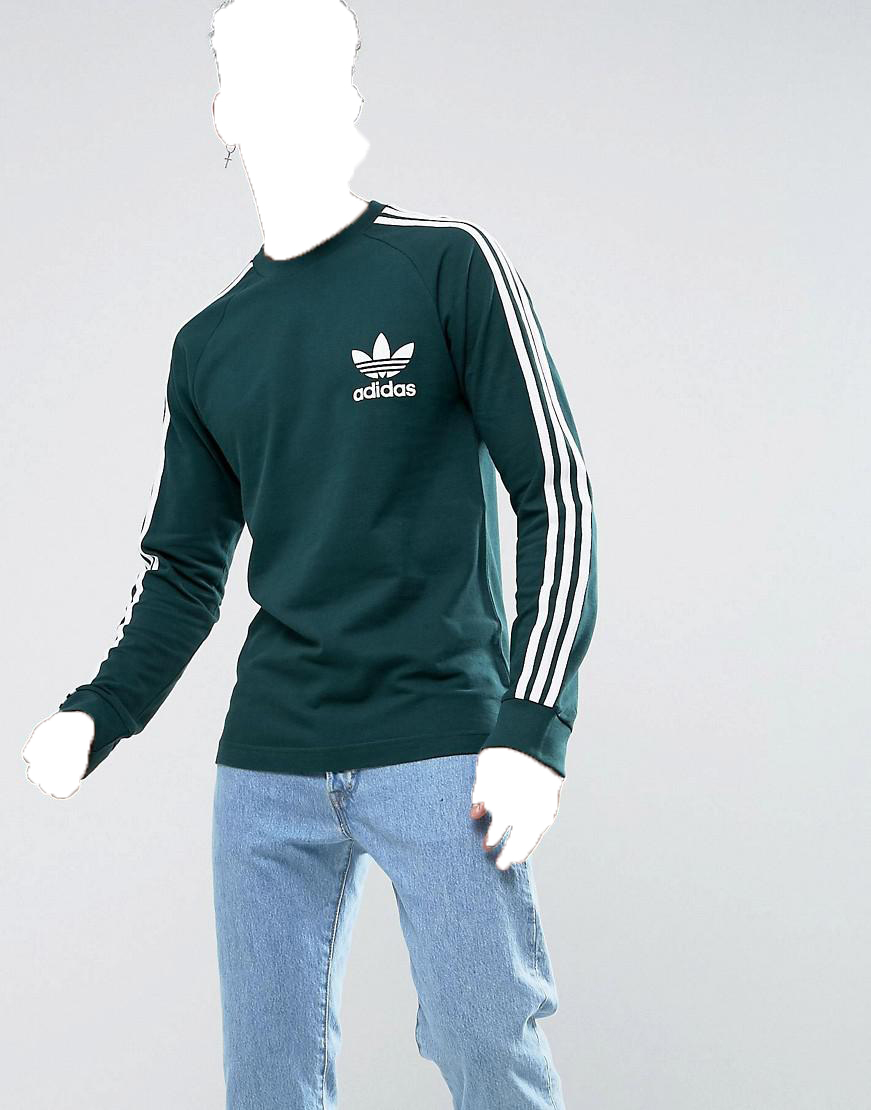teeshirt: (66, 207, 640, 779)
